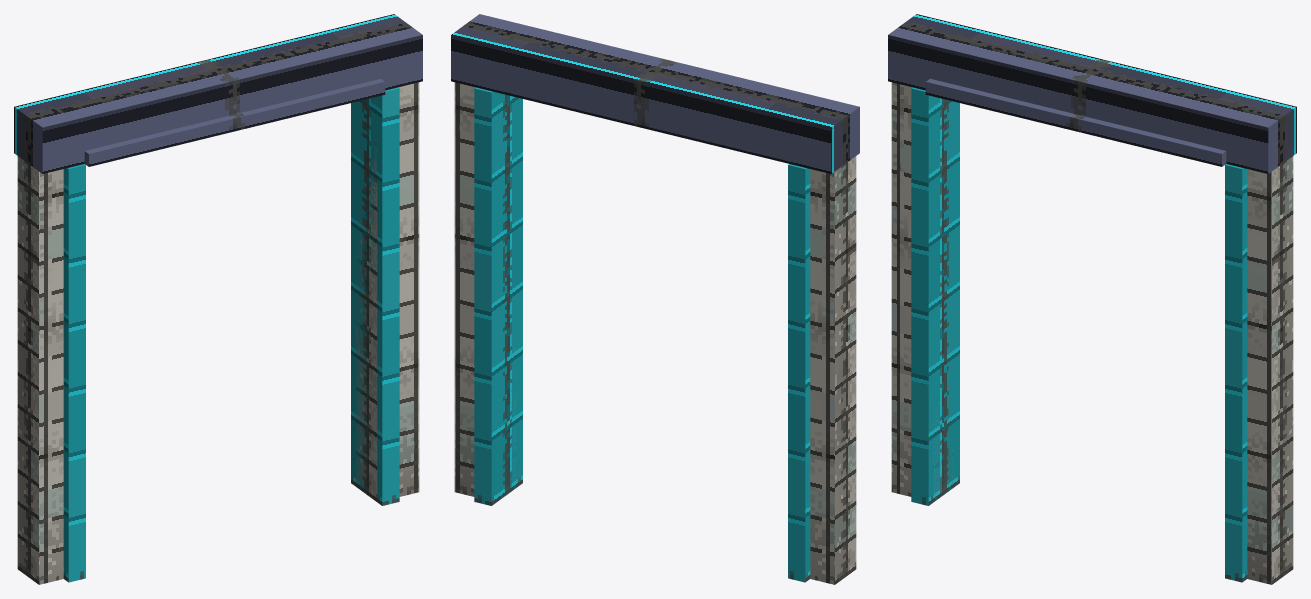
File: tp_br_shutter_head.glb
3 views of the same model, side by side, from view 1: azimuth 30°, elevation 25°; view 2: azimuth 150°, elevation 25°; view 3: azimuth 330°, elevation 25° (orthographic).
Visible parts, largest first — view 1: br_sh_head, br_sh_guide_l, br_sh_lip_r, br_sh_guide_r, br_sh_lip_l, br_sh_rail; view 2: br_sh_head, br_sh_lip_r, br_sh_guide_l, br_sh_lip_l, br_sh_guide_r, br_sh_rail; view 3: br_sh_head, br_sh_lip_l, br_sh_guide_r, br_sh_lip_r, br_sh_guide_l, br_sh_rail.
Boxes of the visible parts, <box> form: br_sh_head: <box>14,14,422,173</box>; br_sh_guide_l: <box>17,156,63,584</box>; br_sh_lip_r: <box>351,87,399,505</box>; br_sh_guide_r: <box>356,82,419,501</box>; br_sh_lip_l: <box>63,164,85,582</box>; br_sh_rail: <box>84,78,385,166</box>; br_sh_head: <box>451,14,859,173</box>; br_sh_lip_r: <box>474,87,522,505</box>; br_sh_guide_l: <box>810,156,856,584</box>; br_sh_lip_l: <box>788,164,810,582</box>; br_sh_guide_r: <box>454,82,515,496</box>; br_sh_rail: <box>493,78,788,163</box>; br_sh_head: <box>888,14,1296,173</box>; br_sh_lip_l: <box>911,87,959,505</box>; br_sh_guide_r: <box>1247,156,1293,584</box>; br_sh_lip_r: <box>1225,164,1247,582</box>; br_sh_guide_l: <box>891,82,953,501</box>; br_sh_rail: <box>925,78,1226,166</box>.
Size of the model in its own units: 3.08 by 3.56 by 0.48.
3 materials, 3 textured.
